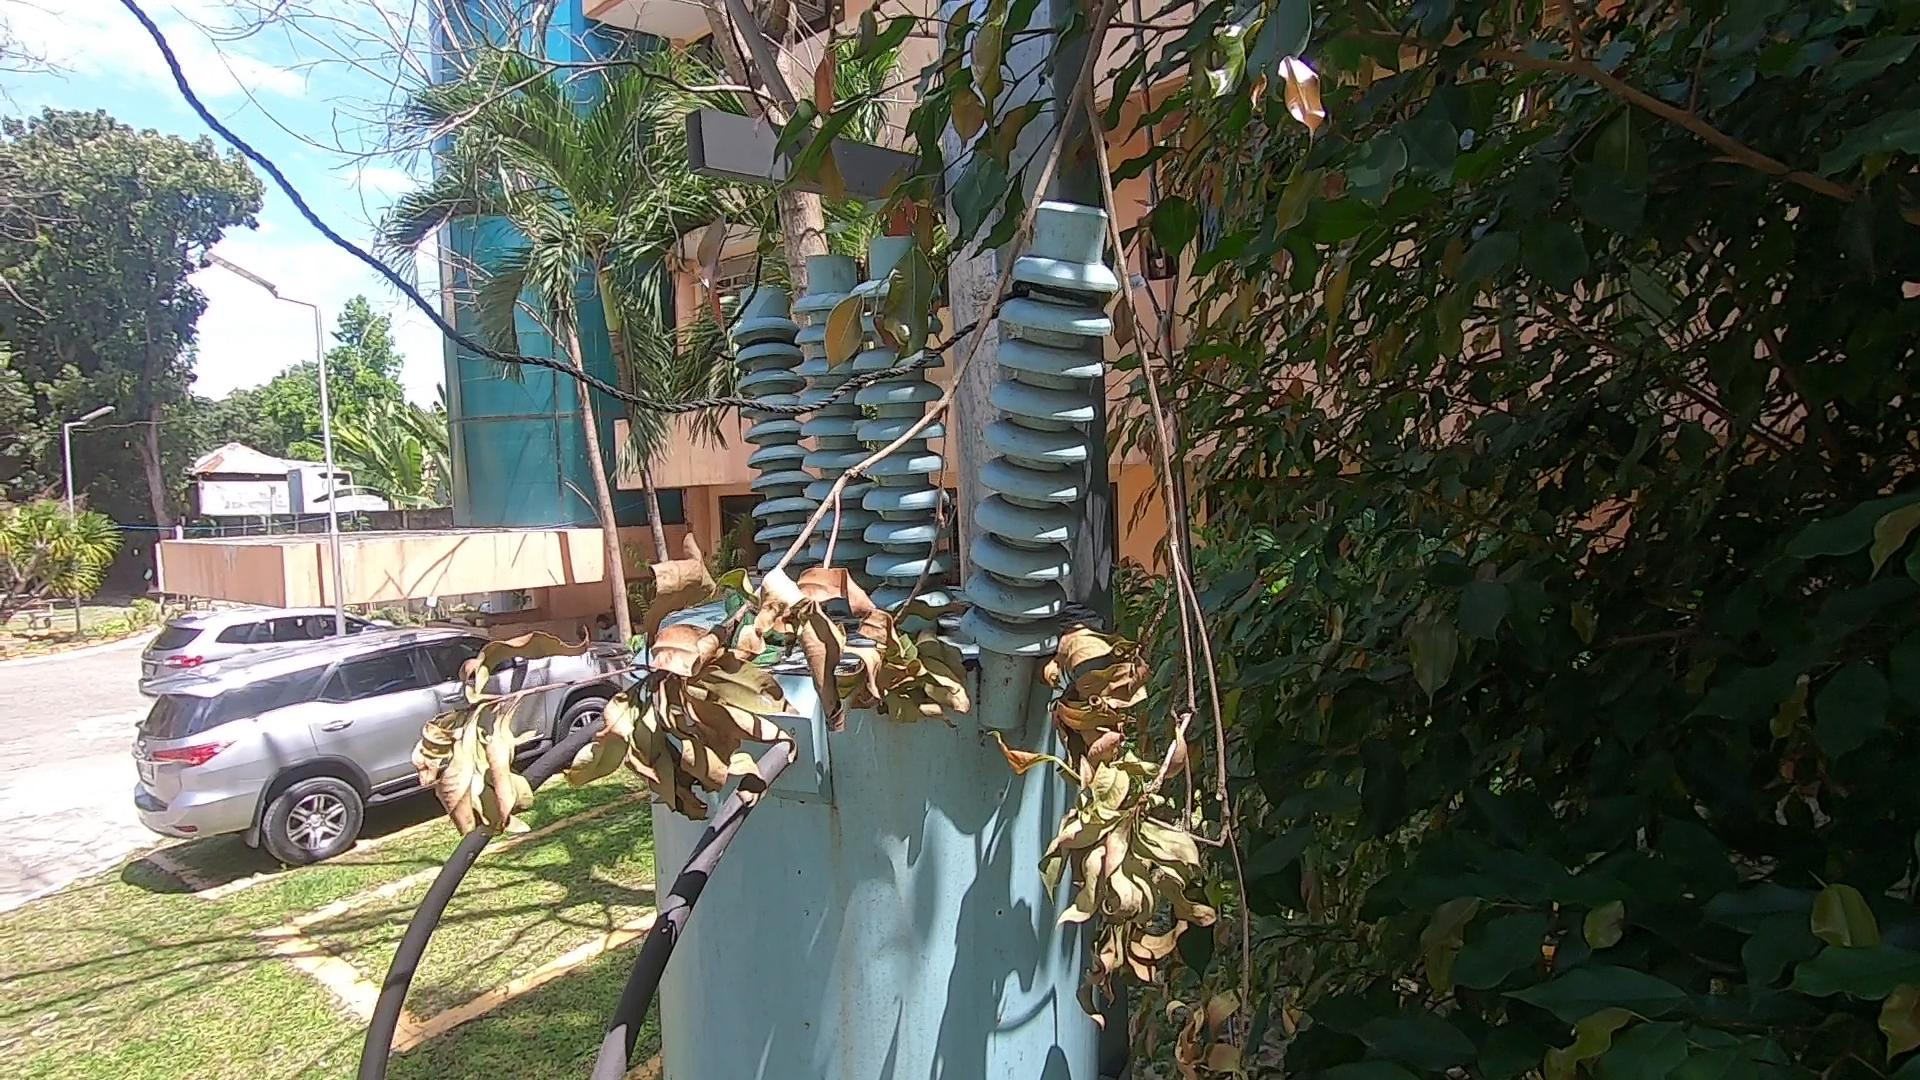branch with leaves: (367, 9, 1406, 1080)
